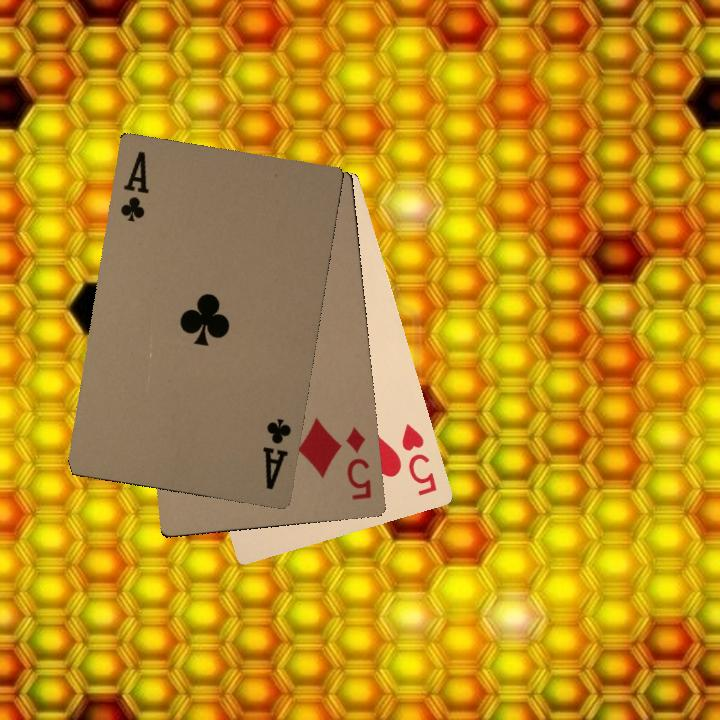5d: (341, 424, 374, 502)
5h: (397, 419, 440, 498)
Ac: (259, 414, 294, 493), (116, 147, 151, 224)
